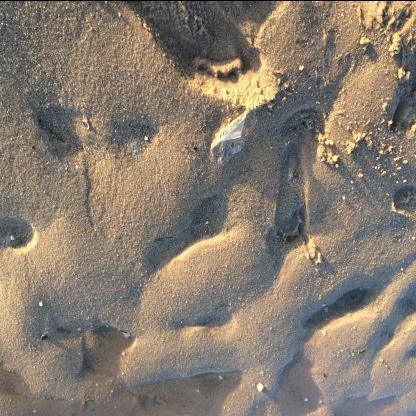plastik: (210, 111, 248, 153)
